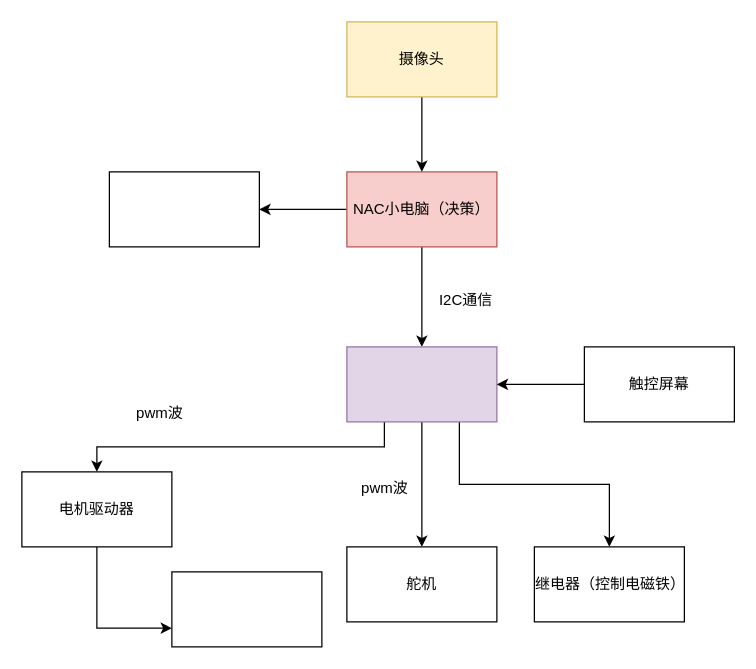
Image size: 756x669. Some labels were removed from this diagram. Here are the shapes that lost their labels. From the top down, the centre of each, then its label:
At point (183, 209): "显示屏幕".
At point (421, 384): "STM32F407（执行）".
At point (246, 609): "步进电机".
